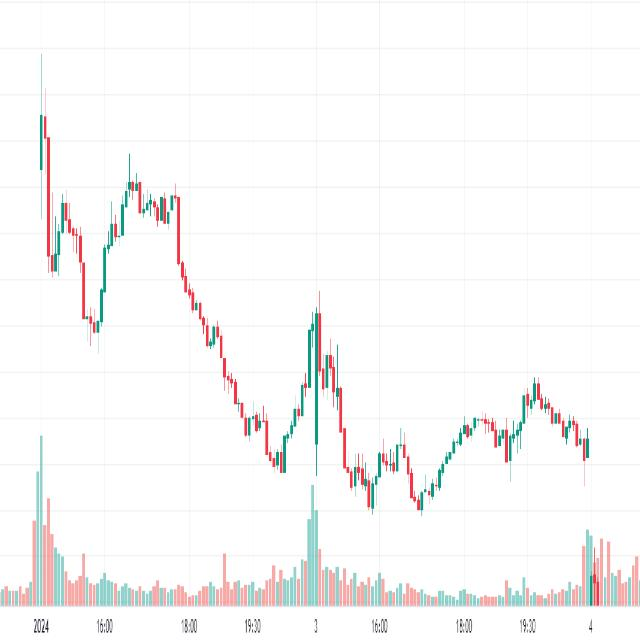Channel-up: (368, 345, 608, 571)
Falling-Wedge: (266, 271, 469, 548)
